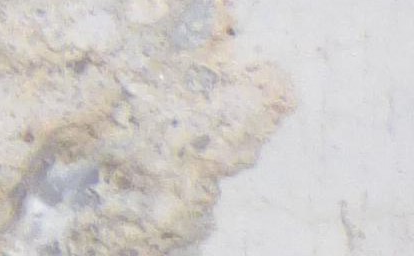Spalling: (1, 1, 300, 256)
